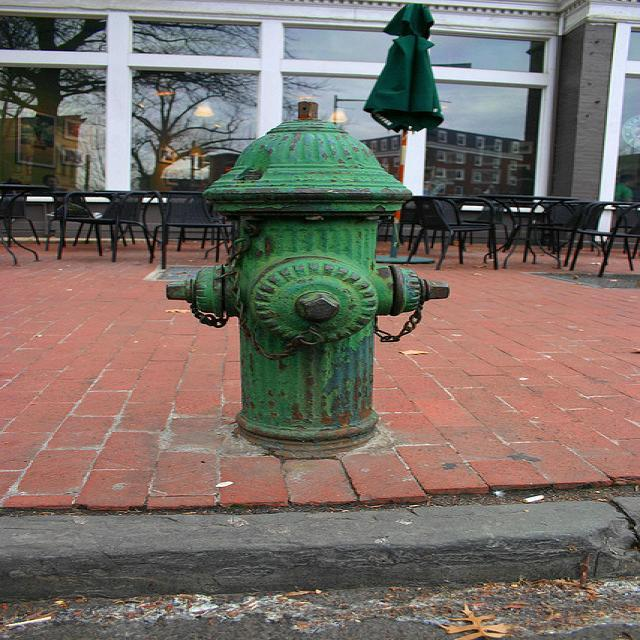fire_hydrant: (165, 101, 450, 457)
